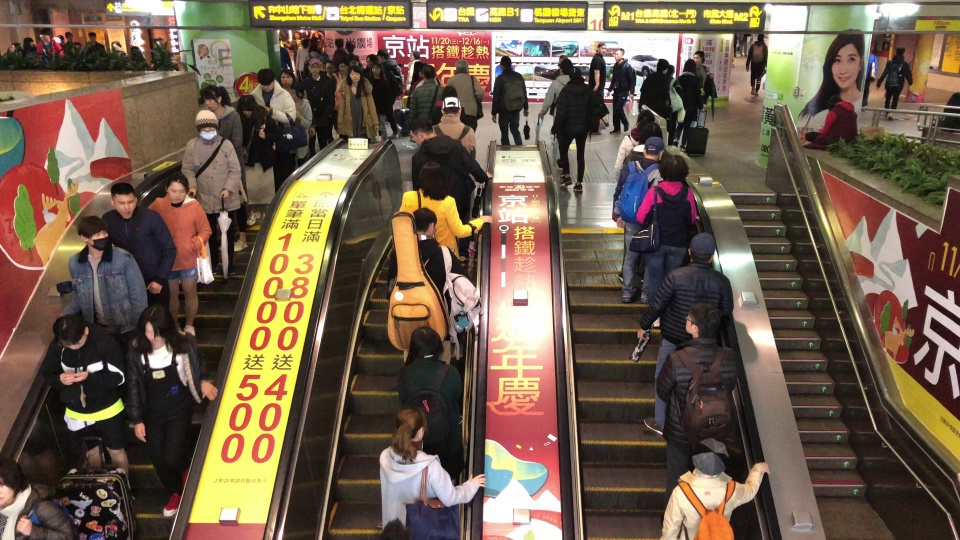person_head: (402, 324, 445, 364), (388, 401, 426, 443), (73, 216, 112, 256), (135, 309, 173, 350), (393, 206, 437, 240), (52, 312, 91, 350), (691, 436, 728, 476), (681, 306, 721, 342), (0, 456, 29, 505), (105, 182, 141, 220), (657, 151, 692, 183), (416, 162, 449, 194), (403, 117, 439, 145), (688, 229, 716, 265), (197, 83, 228, 112), (163, 172, 189, 206), (195, 112, 219, 142), (253, 67, 278, 92), (641, 134, 664, 160), (439, 96, 462, 121), (235, 96, 257, 119), (378, 518, 403, 536), (564, 69, 586, 89), (649, 54, 668, 77), (635, 108, 655, 128), (453, 55, 472, 76), (278, 71, 297, 89), (495, 54, 512, 73), (557, 60, 574, 75), (891, 44, 907, 59), (375, 48, 393, 61), (824, 96, 843, 108), (681, 60, 696, 75), (422, 66, 437, 79), (611, 46, 624, 61), (310, 61, 324, 74), (349, 69, 361, 83), (598, 42, 610, 56), (666, 62, 676, 78), (693, 51, 705, 62), (755, 33, 766, 45), (40, 28, 50, 41), (412, 50, 422, 63), (23, 37, 34, 48), (64, 31, 74, 42), (111, 41, 121, 51), (130, 46, 140, 56), (10, 42, 21, 51), (309, 36, 318, 46), (56, 35, 64, 45), (301, 38, 309, 48), (87, 32, 96, 40), (294, 31, 300, 39)
person_vbox: (129, 306, 236, 517), (632, 227, 737, 437), (655, 305, 741, 502), (47, 310, 141, 475), (390, 205, 485, 362), (379, 399, 487, 537), (403, 120, 494, 260), (143, 169, 217, 335), (386, 325, 471, 464), (103, 179, 175, 334), (653, 437, 761, 540), (68, 215, 148, 346), (197, 81, 258, 251), (182, 108, 243, 276), (397, 164, 495, 263), (644, 148, 697, 324), (612, 133, 666, 298), (1, 455, 82, 537), (234, 96, 280, 226), (549, 74, 598, 196), (535, 57, 585, 162), (489, 51, 535, 148), (251, 67, 297, 146), (335, 66, 382, 143), (276, 68, 317, 156), (690, 47, 719, 161), (374, 47, 408, 137), (436, 95, 480, 162), (876, 42, 914, 119), (614, 109, 655, 180), (305, 56, 336, 148), (448, 55, 484, 134), (605, 45, 636, 134), (640, 52, 671, 135), (585, 41, 613, 131), (677, 56, 701, 156), (812, 95, 859, 146), (737, 31, 772, 96), (408, 64, 443, 127), (666, 62, 687, 149), (403, 47, 426, 92), (280, 31, 302, 73), (37, 28, 63, 62), (295, 38, 310, 76), (83, 31, 106, 55), (307, 35, 324, 58), (63, 30, 78, 52), (129, 45, 146, 63), (22, 37, 37, 56), (110, 40, 126, 57)
